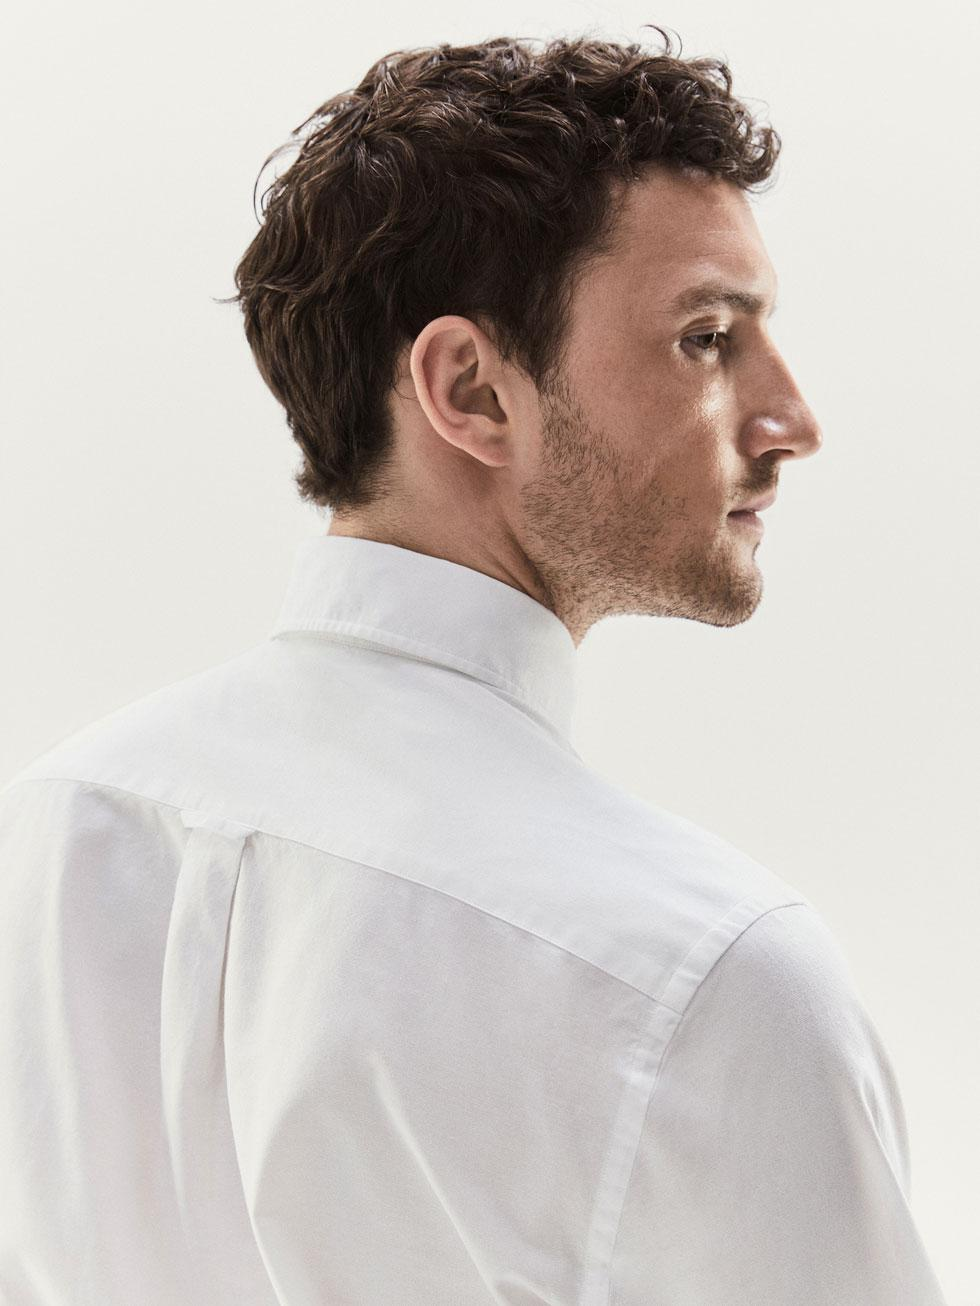teeshirt: (17, 529, 950, 1306)
